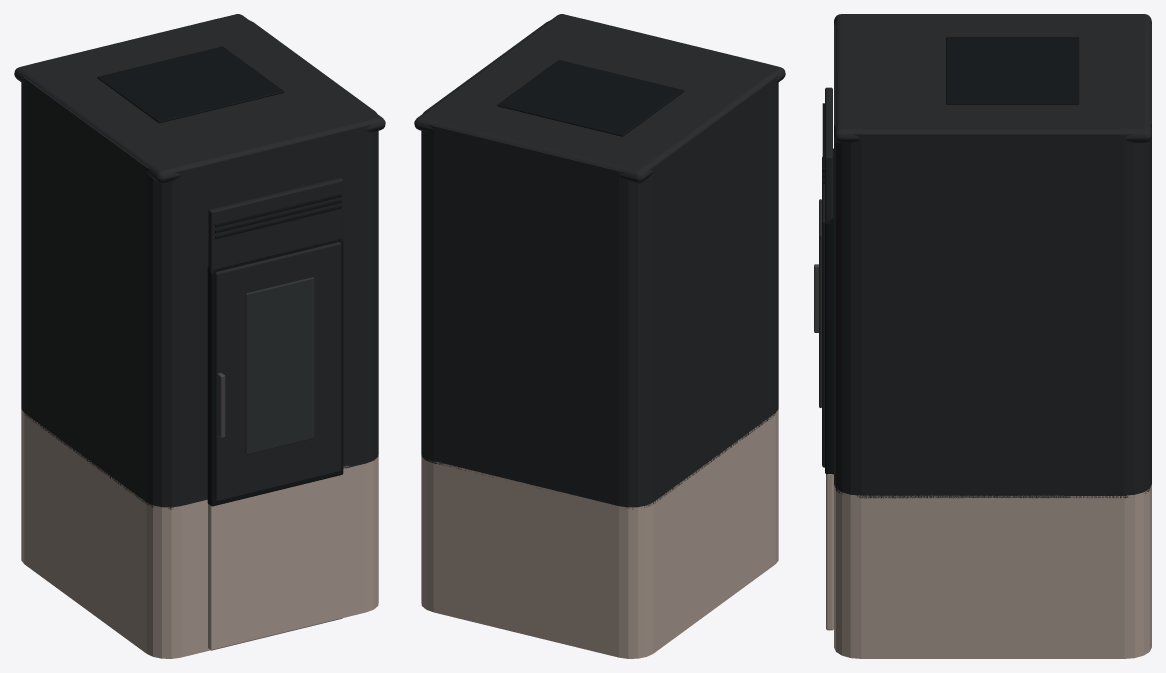
The model's file is nordica-noris-evo-tortora-matt.glb.
3 renders of one model, left to right at view 1: azimuth 30°, elevation 25°; view 2: azimuth 150°, elevation 25°; view 3: azimuth 270°, elevation 25°, orthographic. The views are drawn at different scales.
Visible parts, largest first — view 1: Corpo superiore, Basamento colorato, Coperchio, Pannello inferiore, Sportello, Vetro porta, Coperchio pellet, Pannello griglia, Cornice porta, Maniglia; view 2: Corpo superiore, Basamento colorato, Coperchio, Coperchio pellet; view 3: Corpo superiore, Basamento colorato, Coperchio, Coperchio pellet, Cornice porta, Pannello inferiore, Pannello griglia, Sportello, Vetro porta.
Part boxes in pixels (x1,y1,x2,y2): Corpo superiore: (21,19,378,509); Basamento colorato: (21,409,378,658); Coperchio: (14,14,385,183); Pannello inferiore: (208,474,342,650); Sportello: (215,242,341,501); Vetro porta: (245,277,314,454); Coperchio pellet: (97,46,284,123); Pannello griglia: (208,178,343,274); Cornice porta: (207,238,343,506); Maniglia: (217,373,225,438); Corpo superiore: (421,19,778,509); Basamento colorato: (421,409,778,658); Coperchio: (414,14,785,183); Coperchio pellet: (497,60,684,136); Corpo superiore: (834,22,1151,498); Basamento colorato: (834,484,1151,658); Coperchio: (834,14,1151,142); Coperchio pellet: (946,37,1079,104); Cornice porta: (825,148,833,474); Pannello inferiore: (826,474,833,630); Pannello griglia: (825,87,832,223); Sportello: (822,157,824,467); Vetro porta: (819,199,821,407).
Size of the model in its own units: 0.576 by 1.18 by 0.682.
